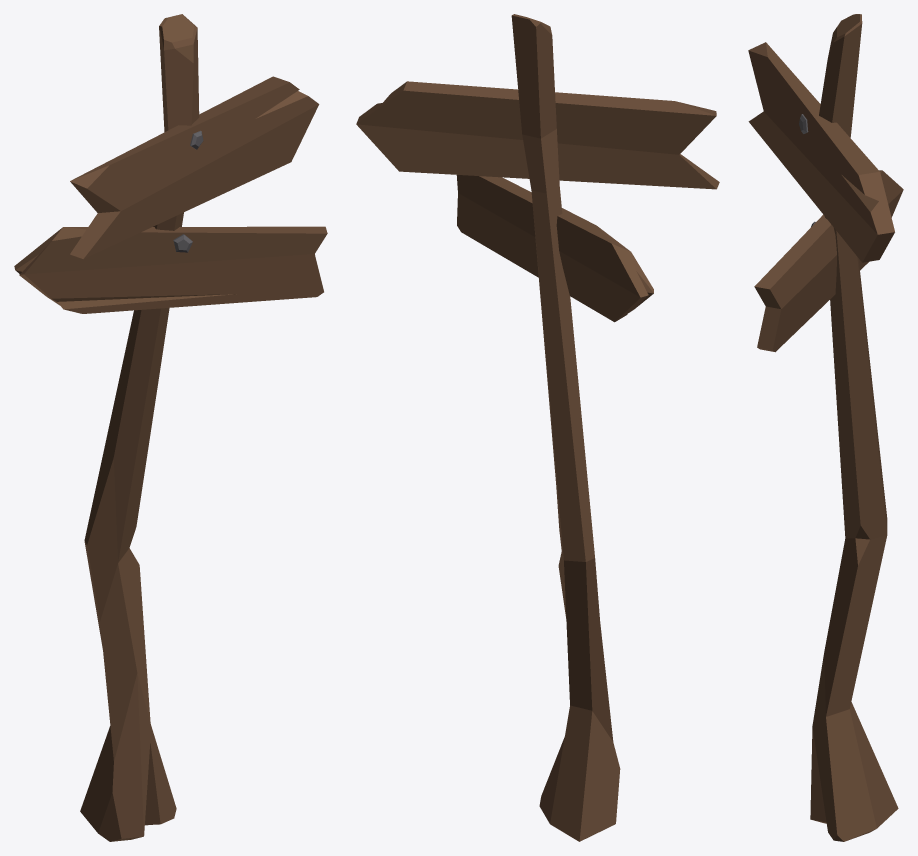
File: post3.glb
3 views of the same model, side by side, from view 1: azimuth 30°, elevation 25°; view 2: azimuth 150°, elevation 25°; view 3: azimuth 270°, elevation 25° (orthographic). The views are drawn at different scales.
Visible parts, largest first — view 1: post3; view 2: post3; view 3: post3.
Part boxes in pixels (x1,y1,x2,y2): post3: [14, 14, 327, 841]; post3: [356, 14, 719, 841]; post3: [748, 14, 903, 841].
Bounding box in the file's own units: 0.4055 × 1.02 × 0.1718.
